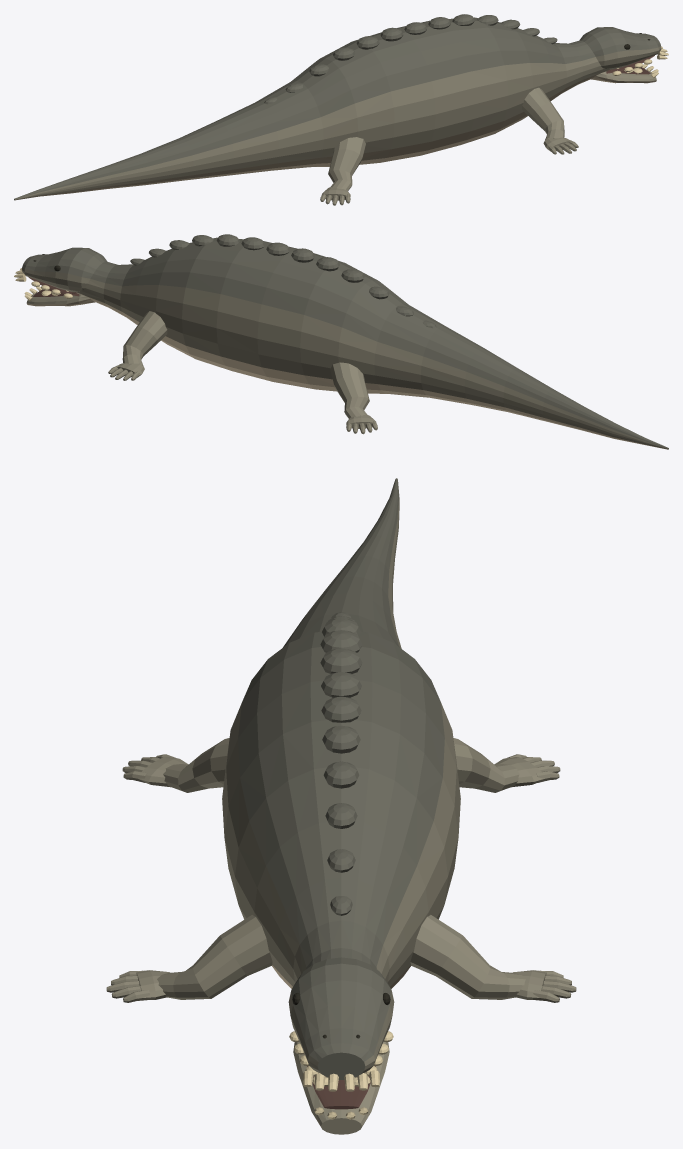
3 renders of one model, top to bottom at view 1: azimuth 30°, elevation 25°; view 2: azimuth 150°, elevation 25°; view 3: azimuth 270°, elevation 25°, orthographic. The views are drawn at different scales.
Parts seen in each view (by area): view 1: 01_Barrel_neck_tail, 05_Single_low_dorsal_row, 02_Fleshed_upper_head, 06_hindlimb_right, 06_forelimb_right, 03_Lower_jaw, 08_Differentiated_teeth; view 2: 01_Barrel_neck_tail, 05_Single_low_dorsal_row, 02_Fleshed_upper_head, 06_hindlimb_left, 06_forelimb_left, 03_Lower_jaw, 08_Differentiated_teeth; view 3: 01_Barrel_neck_tail, 02_Fleshed_upper_head, 05_Single_low_dorsal_row, 06_forelimb_left, 06_forelimb_right, 06_hindlimb_right, 06_hindlimb_left, 03_Lower_jaw, 08_Differentiated_teeth, 04_Oral_lining.
Boxes of the visible parts, bbox=[...] form: 01_Barrel_neck_tail: bbox=[14, 17, 609, 200]; 05_Single_low_dorsal_row: bbox=[264, 14, 557, 104]; 02_Fleshed_upper_head: bbox=[579, 27, 661, 69]; 06_hindlimb_right: bbox=[320, 137, 365, 205]; 06_forelimb_right: bbox=[522, 87, 578, 154]; 03_Lower_jaw: bbox=[591, 71, 656, 83]; 08_Differentiated_teeth: bbox=[612, 46, 668, 77]; 01_Barrel_neck_tail: bbox=[76, 237, 668, 449]; 05_Single_low_dorsal_row: bbox=[130, 234, 436, 328]; 02_Fleshed_upper_head: bbox=[22, 247, 107, 292]; 06_hindlimb_left: bbox=[330, 362, 377, 434]; 06_forelimb_left: bbox=[108, 311, 167, 380]; 03_Lower_jaw: bbox=[26, 293, 95, 306]; 08_Differentiated_teeth: bbox=[14, 268, 72, 300]; 01_Barrel_neck_tail: bbox=[222, 478, 460, 988]; 02_Fleshed_upper_head: bbox=[288, 957, 394, 1079]; 05_Single_low_dorsal_row: bbox=[320, 612, 362, 915]; 06_forelimb_left: bbox=[410, 915, 576, 1002]; 06_forelimb_right: bbox=[106, 915, 272, 1002]; 06_hindlimb_right: bbox=[122, 738, 229, 792]; 06_hindlimb_left: bbox=[453, 738, 560, 792]; 03_Lower_jaw: bbox=[293, 1042, 389, 1134]; 08_Differentiated_teeth: bbox=[289, 1031, 393, 1119]; 04_Oral_lining: bbox=[304, 1054, 378, 1109].
Bounding box in the file's own units: 3.2 × 0.61 × 1.02.
